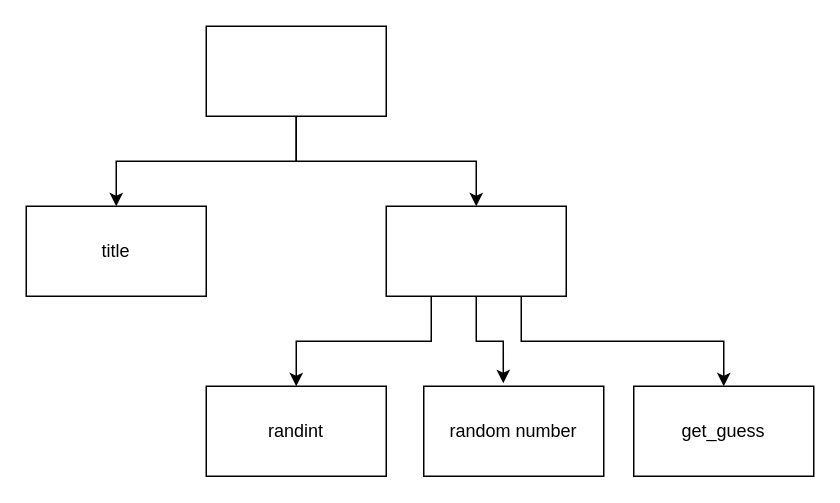
The diagram is 840 pixels wide and 503 high, and some of its shapes have lost their labels. The centre of each missing label's shape, as x and y in pixels:
game: (475,250)
main: (295,70)
